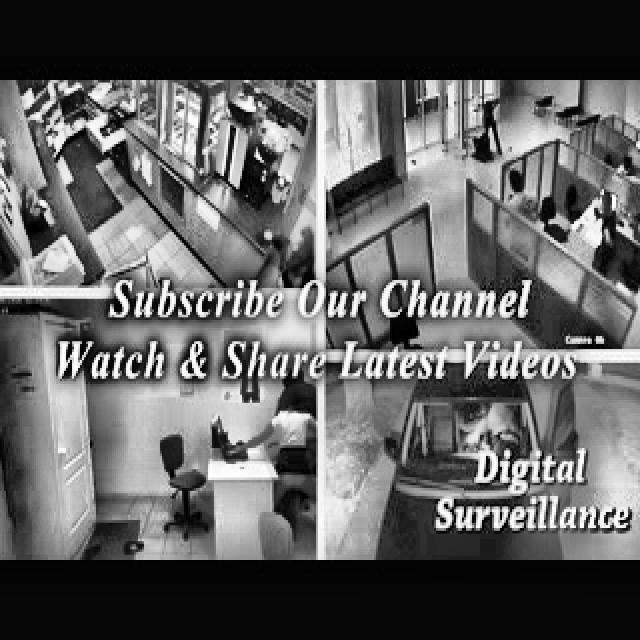burglary: (250, 217, 316, 287)
